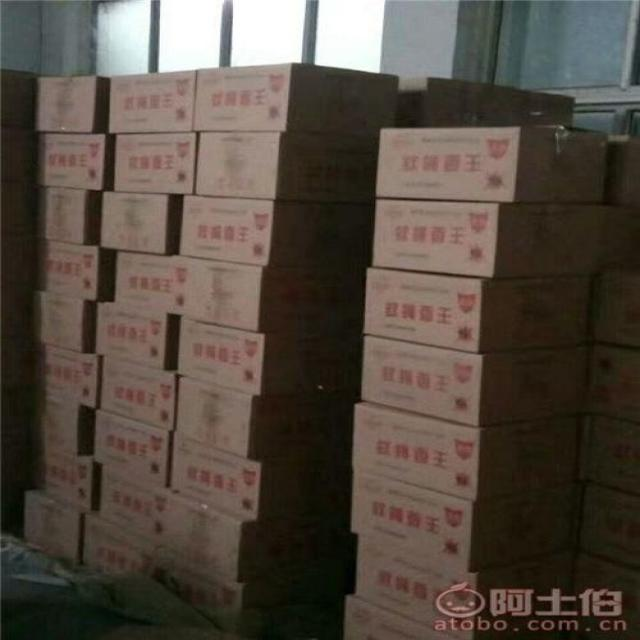box: (80, 506, 359, 638), (98, 466, 356, 582), (354, 401, 581, 501), (352, 470, 574, 572), (357, 534, 567, 638), (114, 248, 367, 332), (362, 335, 587, 425), (363, 269, 589, 353), (376, 125, 610, 202), (371, 200, 603, 277), (171, 431, 352, 520), (175, 375, 363, 457), (193, 65, 398, 138), (177, 315, 363, 394), (178, 195, 375, 267), (196, 132, 379, 204), (341, 593, 558, 639), (393, 77, 574, 127), (95, 410, 172, 488), (571, 554, 639, 639), (101, 355, 176, 430), (109, 70, 197, 133), (96, 302, 181, 367), (576, 482, 639, 569), (24, 487, 90, 568), (99, 191, 182, 255), (115, 132, 195, 196), (36, 240, 117, 301), (31, 445, 102, 511), (27, 393, 99, 456), (31, 341, 99, 407), (38, 133, 116, 190), (34, 75, 107, 132), (587, 344, 639, 424), (587, 415, 639, 494), (32, 292, 96, 352), (36, 185, 98, 245), (597, 270, 639, 345)
